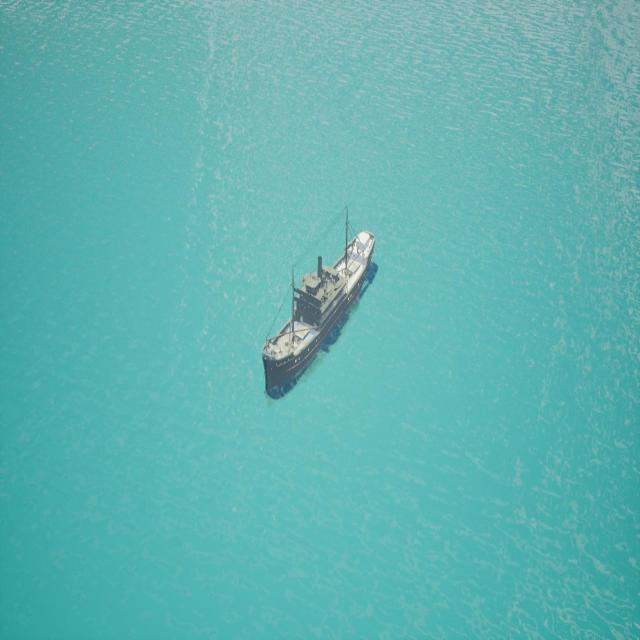fishing ship: (260, 231, 381, 402)
